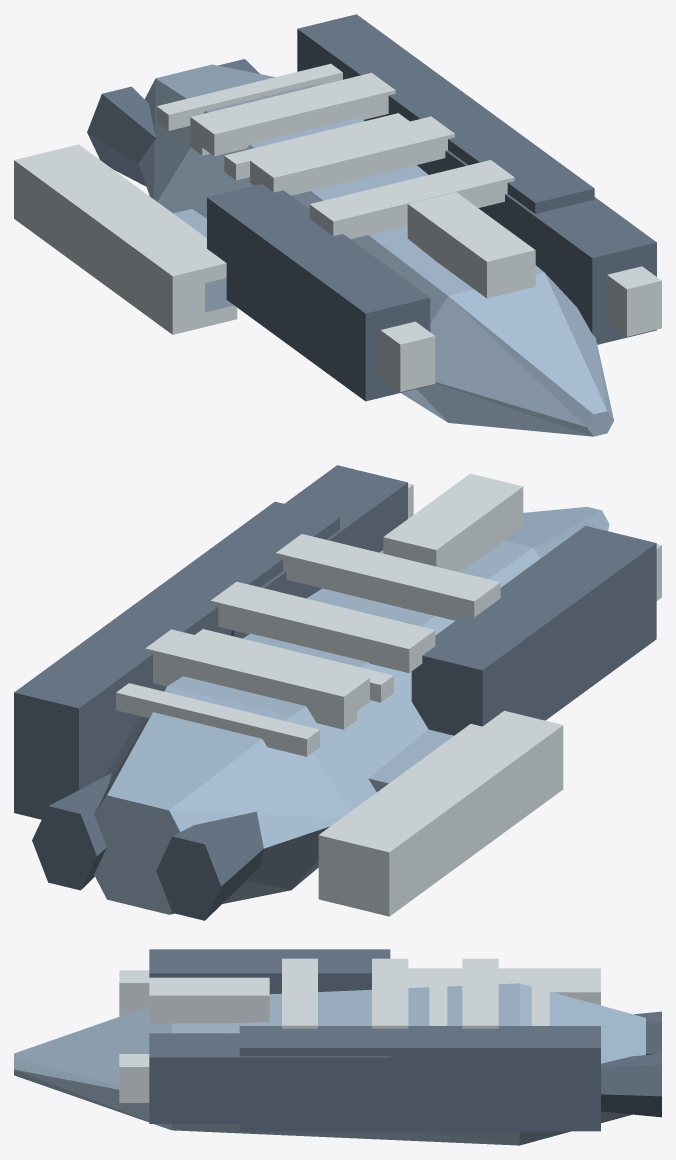
3 views of the same model, one above another, from view 1: azimuth 30°, elevation 25°; view 2: azimuth 150°, elevation 25°; view 3: azimuth 270°, elevation 25° (orthographic). The views are drawn at different scales.
Size of the model in its own units: 2.15 by 1.08 by 4.61.
